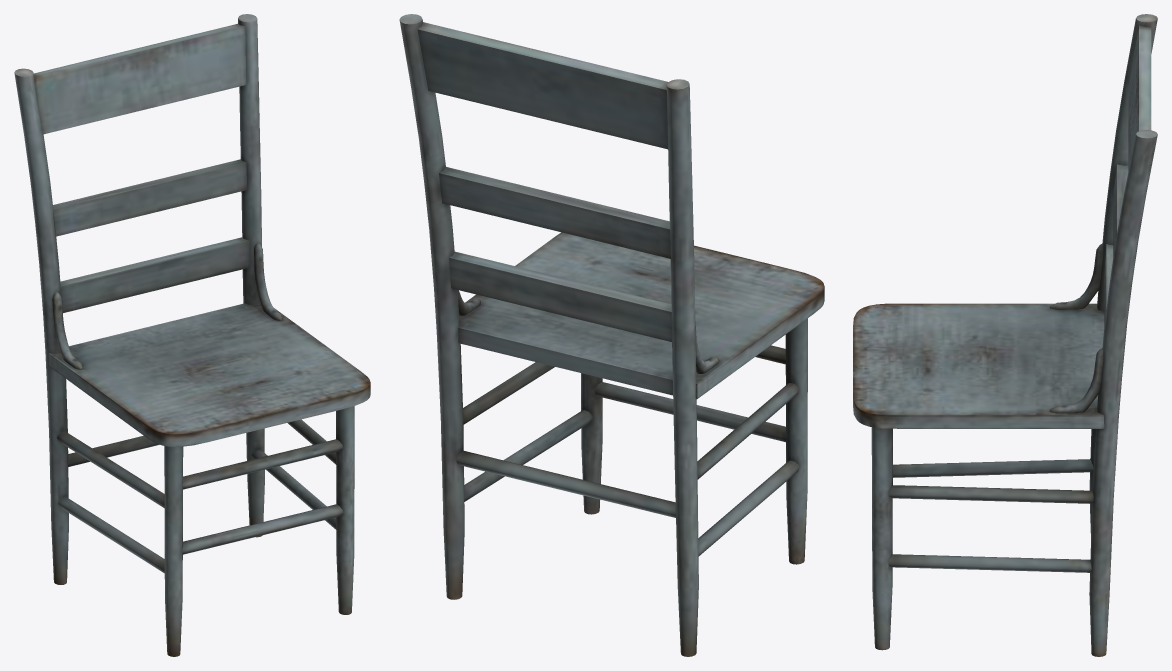
The model's file is chair-painted-02.lite.734c7d99.glb.
3 views of the same model, side by side, from view 1: azimuth 30°, elevation 25°; view 2: azimuth 150°, elevation 25°; view 3: azimuth 270°, elevation 25° (orthographic). The views are drawn at different scales.
Parts seen in each view (by area): view 1: model; view 2: model; view 3: model.
Part boxes in pixels (x1,y1,x2,y2): model: (14,14,370,656); model: (399,14,824,656); model: (853,14,1157,656).
Bounding box in the file's own units: 0.6394 × 1.26 × 0.6621.
1 material, 1 textured.
